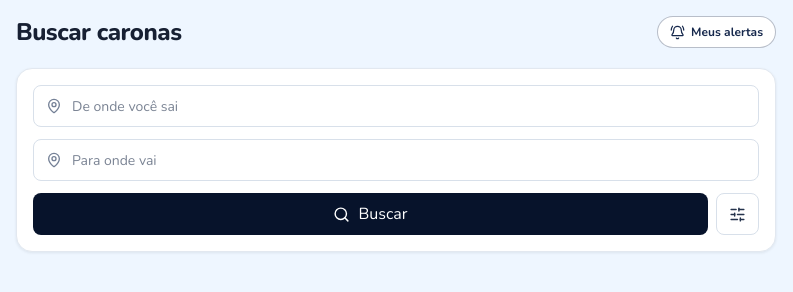
Scenario: realizarBusca › exige a origem: bloqueia a busca e mostra erro quando ela está vazia
Click the button "Buscar": (370, 214) [33, 193, 708, 235]
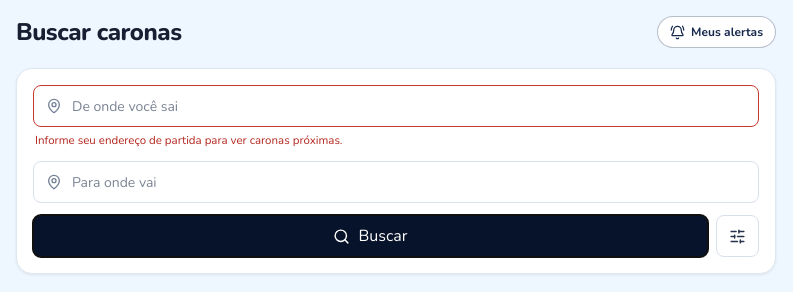
Check: the text "Informe seu endereço de partida para ver caronas próximas." is shown, box [35, 132, 342, 148]
